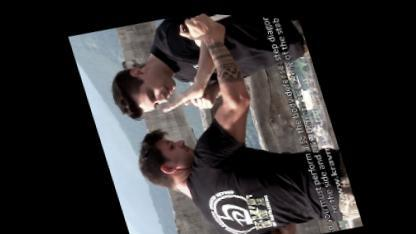knife: (172, 9, 252, 45)
